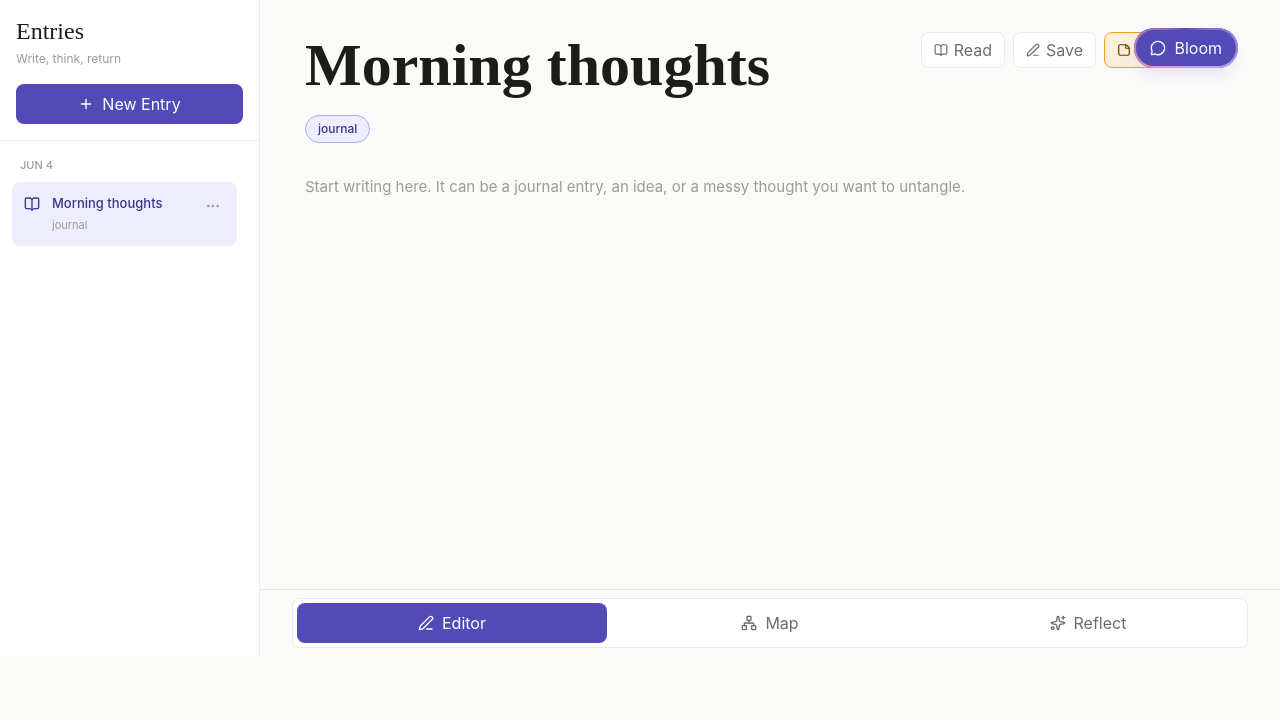
Test: JournalWorkspace › keeps brought-in context controls out of the Bloom sidebar
The image size is (1280, 720).
Step 1. Click the button with aria-label "Open Bloom assistant" → (1186, 48), box [1134,28,1238,68]
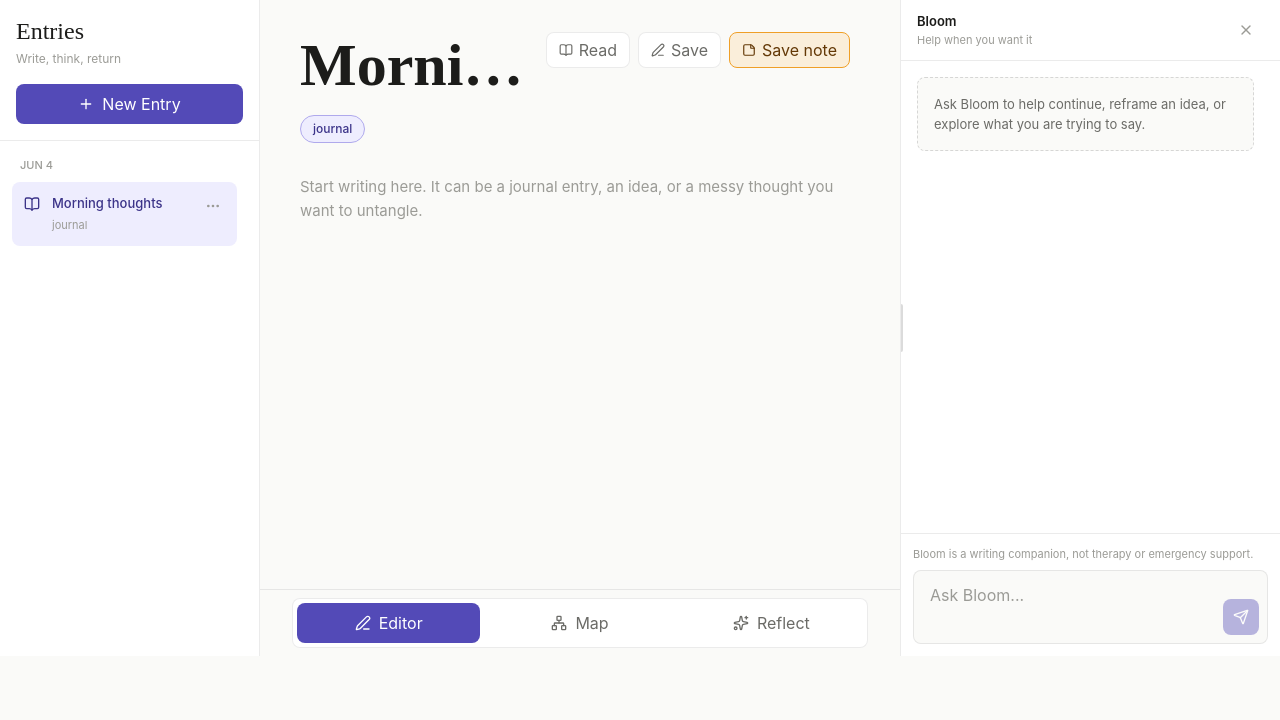
Now the text box labelled "Ask Bloom" is shown, box [922,579,1215,635]
